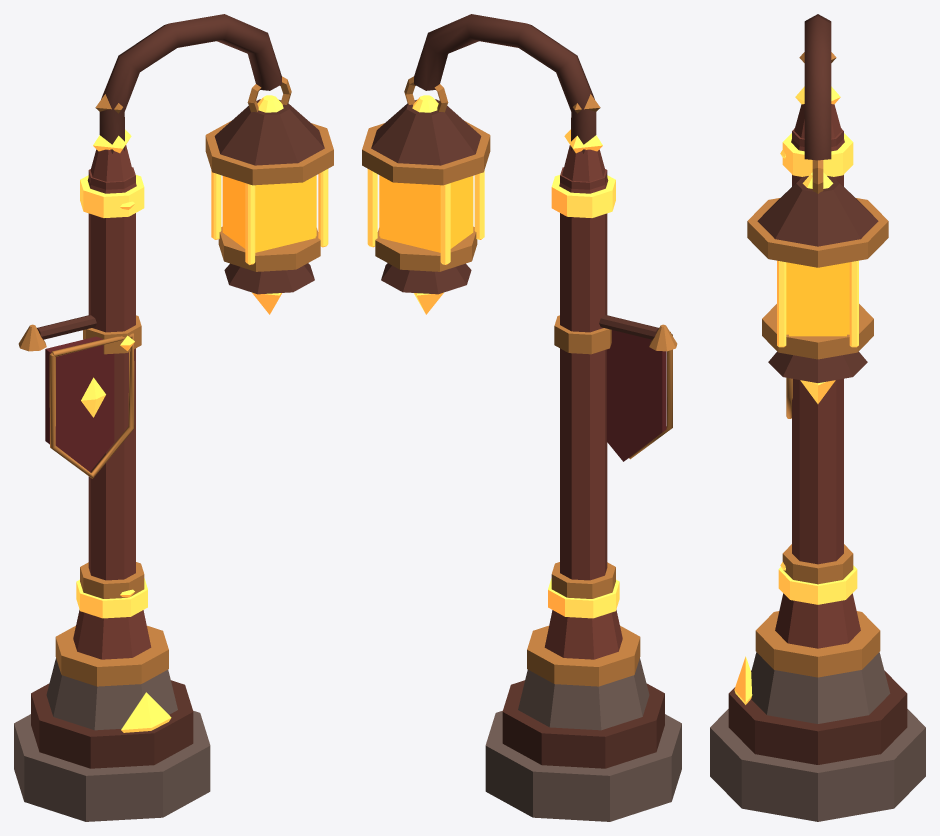
Rendered from fantasy-amber-street-lamp.glb.
The picture shows the model from 3 angles, left to right: view 1: azimuth 30°, elevation 25°; view 2: azimuth 150°, elevation 25°; view 3: azimuth 270°, elevation 25°; orthographic projection. The views are drawn at different scales.
Visible parts, largest first — view 1: FantasyAmberStreetLamp; view 2: FantasyAmberStreetLamp; view 3: FantasyAmberStreetLamp.
Part boxes in pixels (box(x1,y1,x2,y2)): FantasyAmberStreetLamp: box(14, 14, 333, 821); FantasyAmberStreetLamp: box(362, 14, 681, 821); FantasyAmberStreetLamp: box(710, 14, 925, 821).
Bounding box in the file's own units: 1.81 × 4.19 × 1.04.
